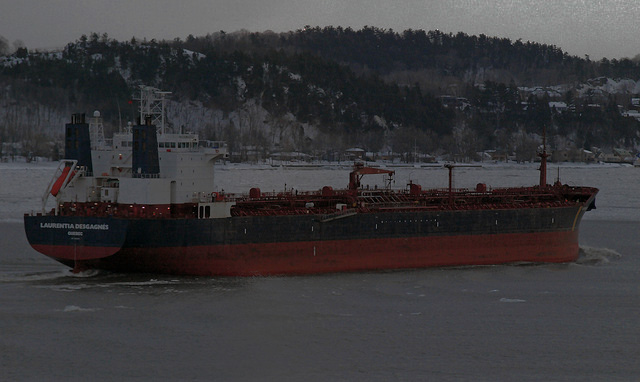tanker: (18, 90, 604, 268)
